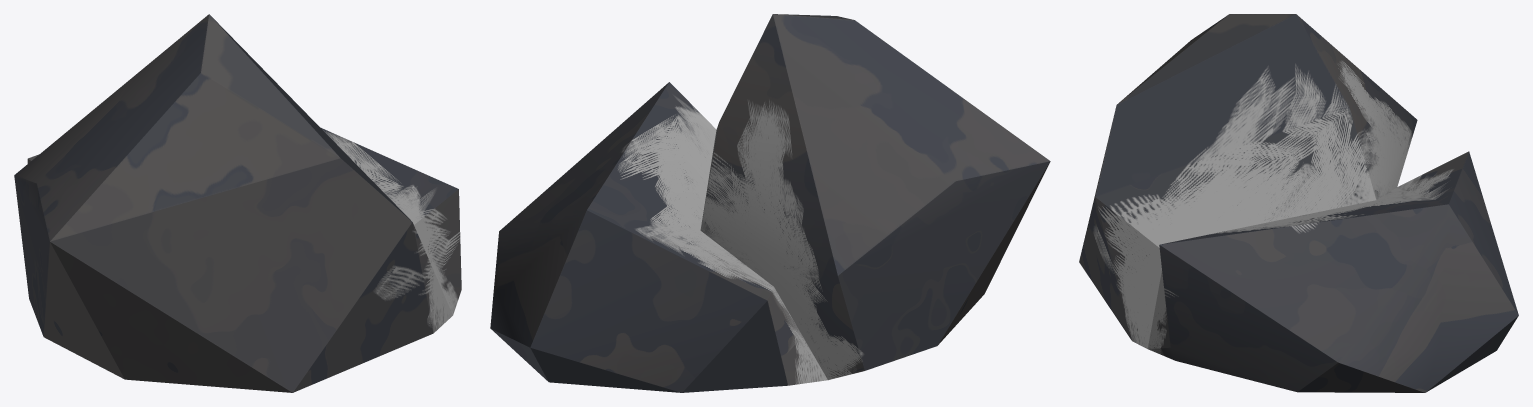
Rendered from Rock_003.fbx.
3 renders of one model, left to right at view 1: azimuth 30°, elevation 25°; view 2: azimuth 150°, elevation 25°; view 3: azimuth 270°, elevation 25°, orthographic. The views are drawn at different scales.
Visible parts, largest first — view 1: Rock_003; view 2: Rock_003; view 3: Rock_003.
Part boxes in pixels (x1=…): Rock_003: x1=14, y1=14, x2=461, y2=392; Rock_003: x1=490, y1=14, x2=1050, y2=392; Rock_003: x1=1079, y1=14, x2=1518, y2=392.
Bounding box in the file's own units: 113 × 72.65 × 101.
1 material, 1 textured.
